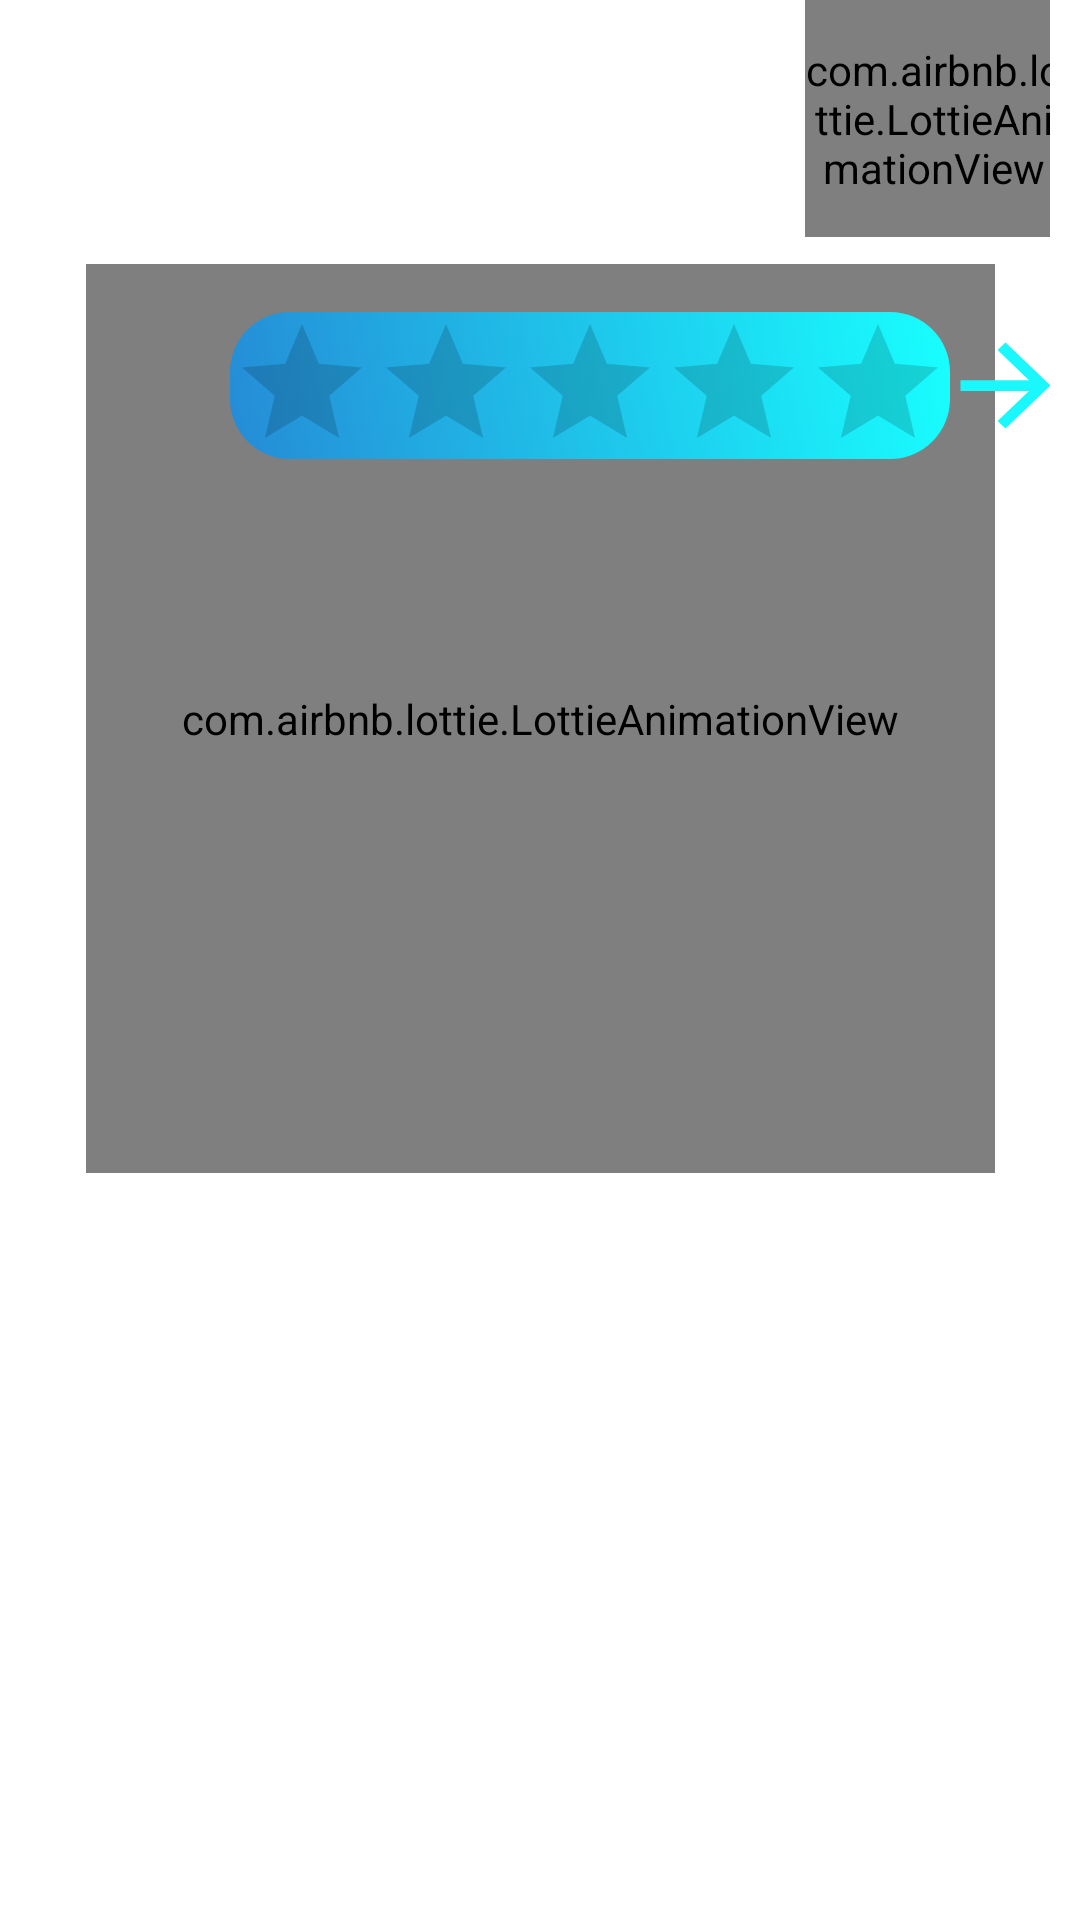

Icon click points for this 1080px x 1920px phone screenshot, format (x=x, y=y):
arrow: (x=1005, y=385)
